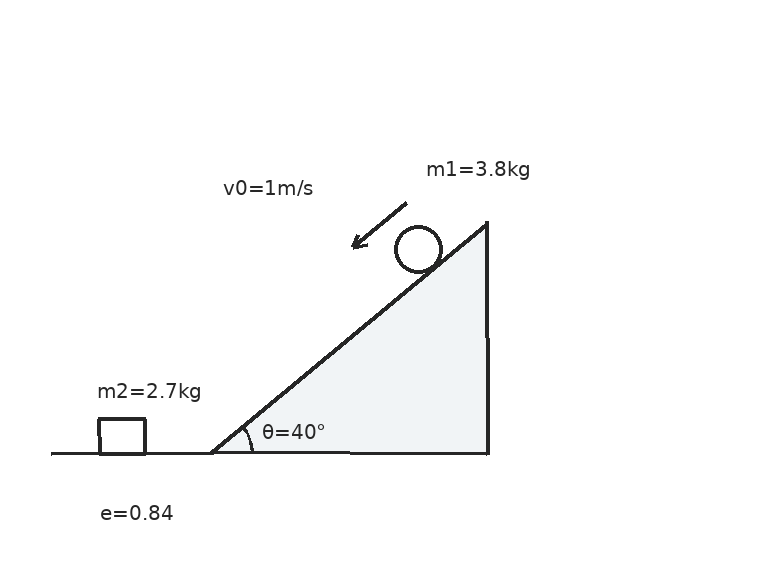ball: (392, 223, 444, 275)
block: (97, 417, 147, 455)
ramp: (210, 221, 488, 455)
